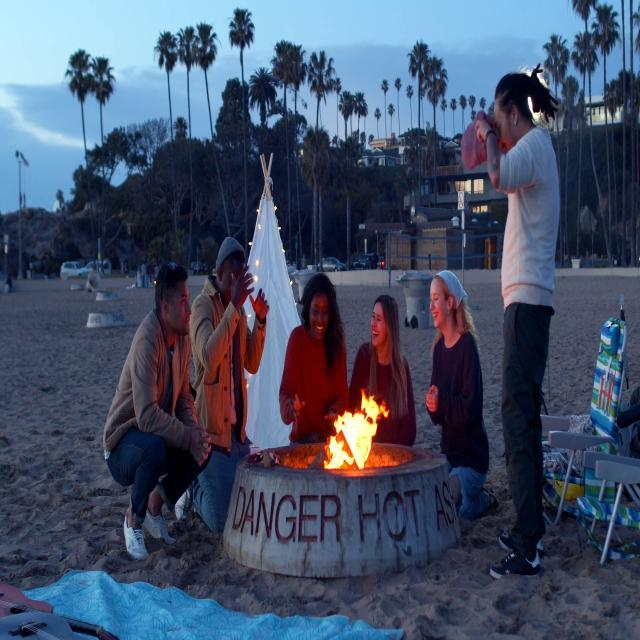Fire: (322, 387, 391, 468)
